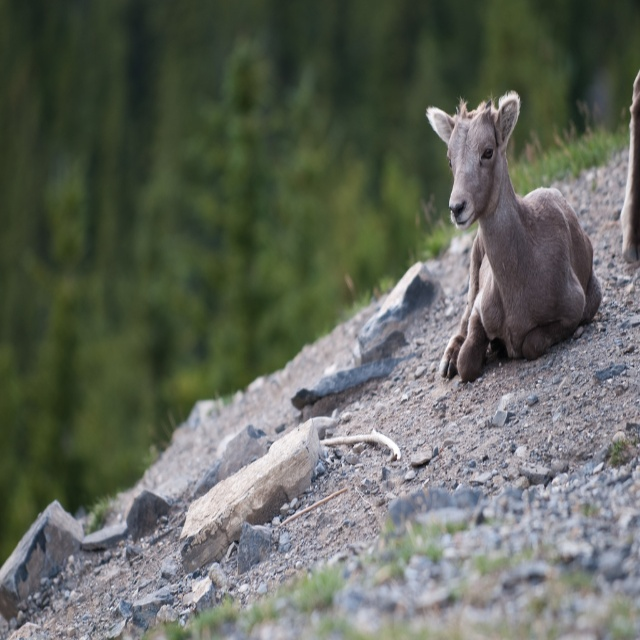Goat: (425, 90, 602, 383)
